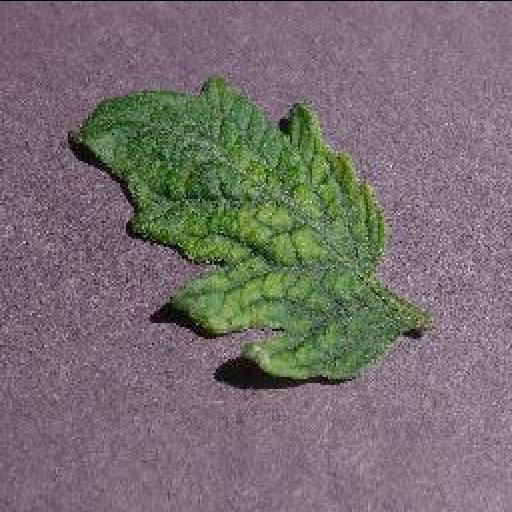disease_tomato: (72, 74, 398, 386)
